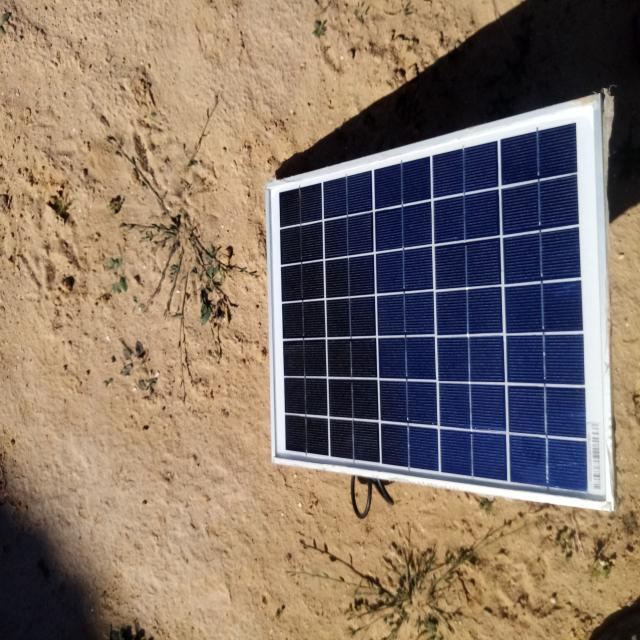Normal Solar Panel: (265, 101, 617, 509)
